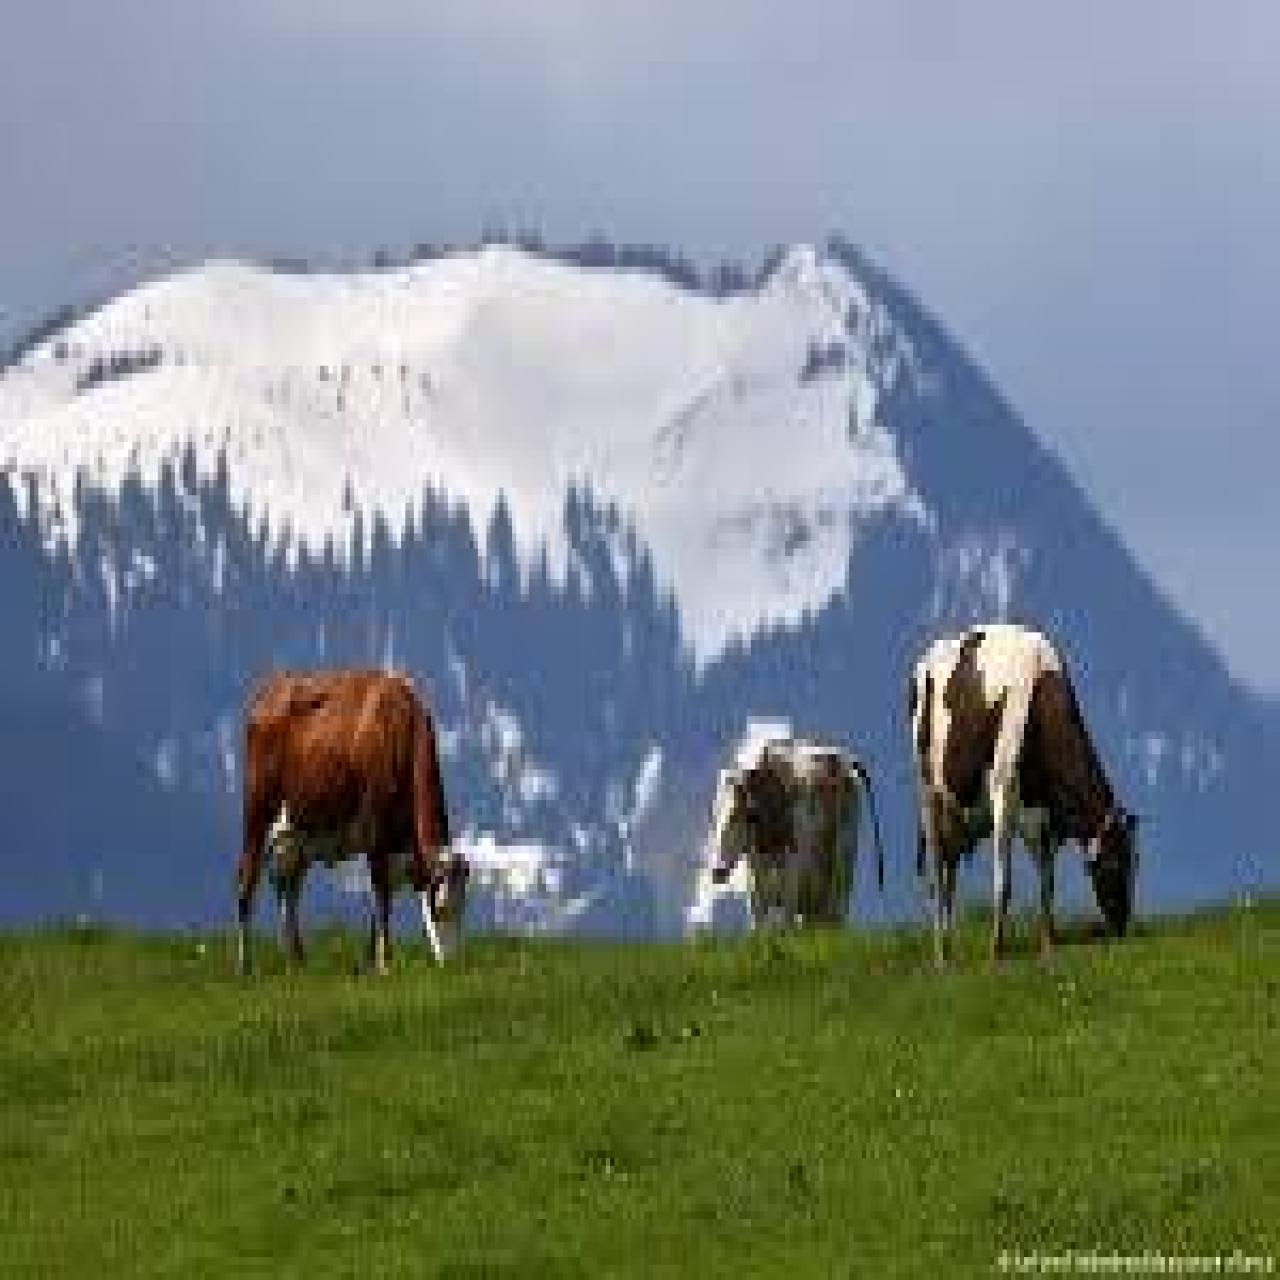cow: (911, 633, 1137, 967), (239, 670, 465, 975), (706, 743, 864, 956)
